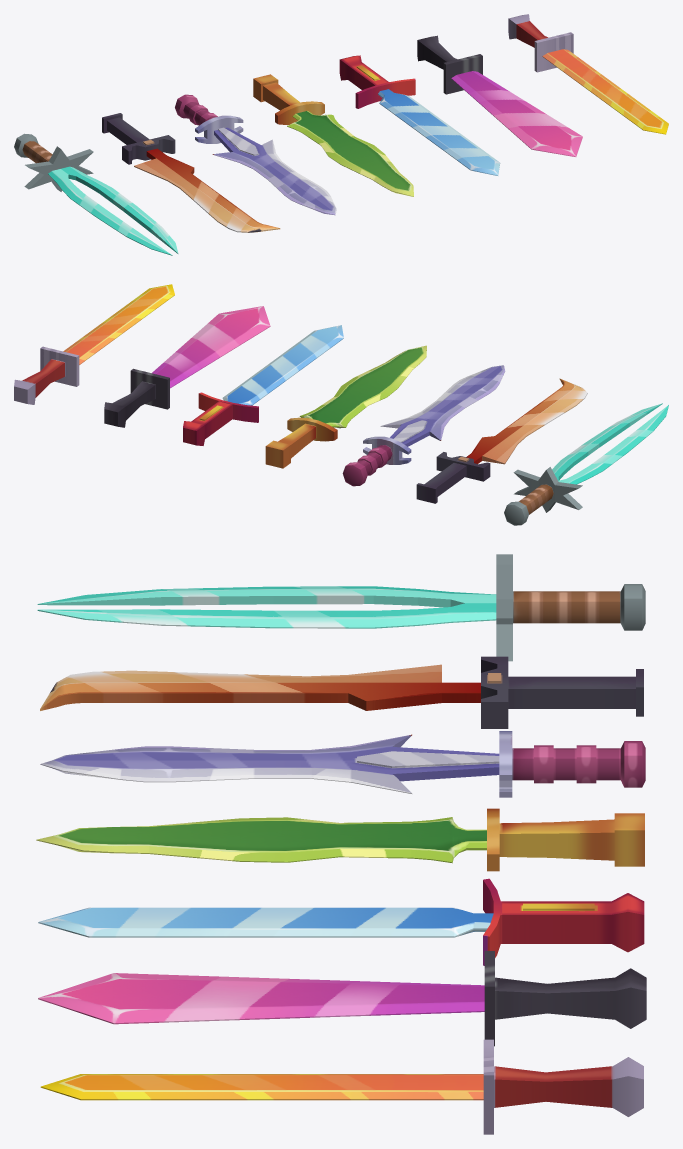
File: Swords1.fbx
3 views of the same model, one above another, from view 1: azimuth 30°, elevation 25°; view 2: azimuth 150°, elevation 25°; view 3: azimuth 270°, elevation 25° (orthographic). The views are drawn at different scales.
Parts seen in each view (by area): view 1: Sw_2, Sw_4, Sw_7, Sw_5, Sw_3, Sw_6, Sw_1; view 2: Sw_2, Sw_4, Sw_7, Sw_5, Sw_3, Sw_6, Sw_1; view 3: Sw_2, Sw_4, Sw_7, Sw_3, Sw_5, Sw_6, Sw_1.
Boxes of the visible parts, box(x1,y1,x2,y2) form: Sw_2: box(417, 35, 582, 156); Sw_4: box(253, 74, 413, 196); Sw_7: box(14, 133, 178, 255); Sw_5: box(175, 94, 336, 215); Sw_3: box(339, 55, 500, 175); Sw_6: box(102, 113, 280, 232); Sw_1: box(508, 14, 668, 134); Sw_2: box(104, 306, 270, 427); Sw_4: box(265, 345, 426, 468); Sw_7: box(504, 403, 668, 525); Sw_5: box(342, 365, 505, 486); Sw_3: box(183, 325, 343, 445); Sw_6: box(416, 378, 587, 503); Sw_1: box(14, 284, 174, 404); Sw_2: box(38, 951, 646, 1046); Sw_4: box(36, 808, 644, 871); Sw_7: box(37, 554, 645, 661); Sw_3: box(38, 878, 644, 965); Sw_5: box(40, 731, 645, 797); Sw_6: box(40, 656, 643, 728); Sw_1: box(40, 1039, 643, 1134).
Size of the model in its own units: 385 by 29.3 by 187.
